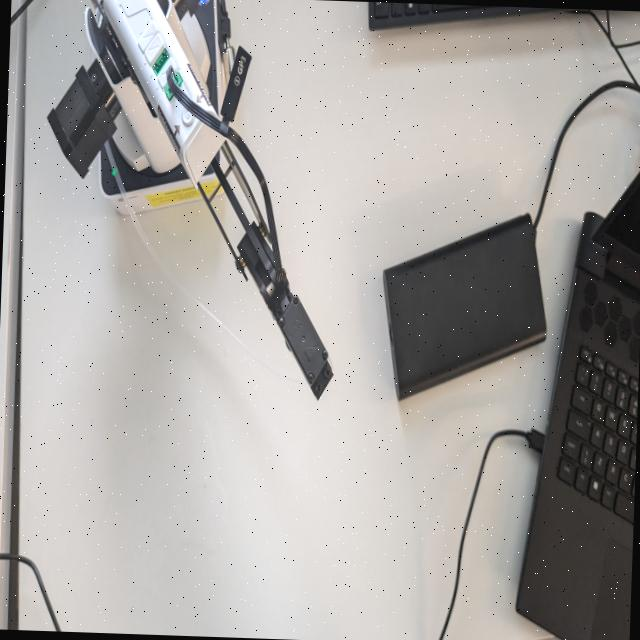Robot-end-effector-HF8z: (270, 286, 336, 404)
